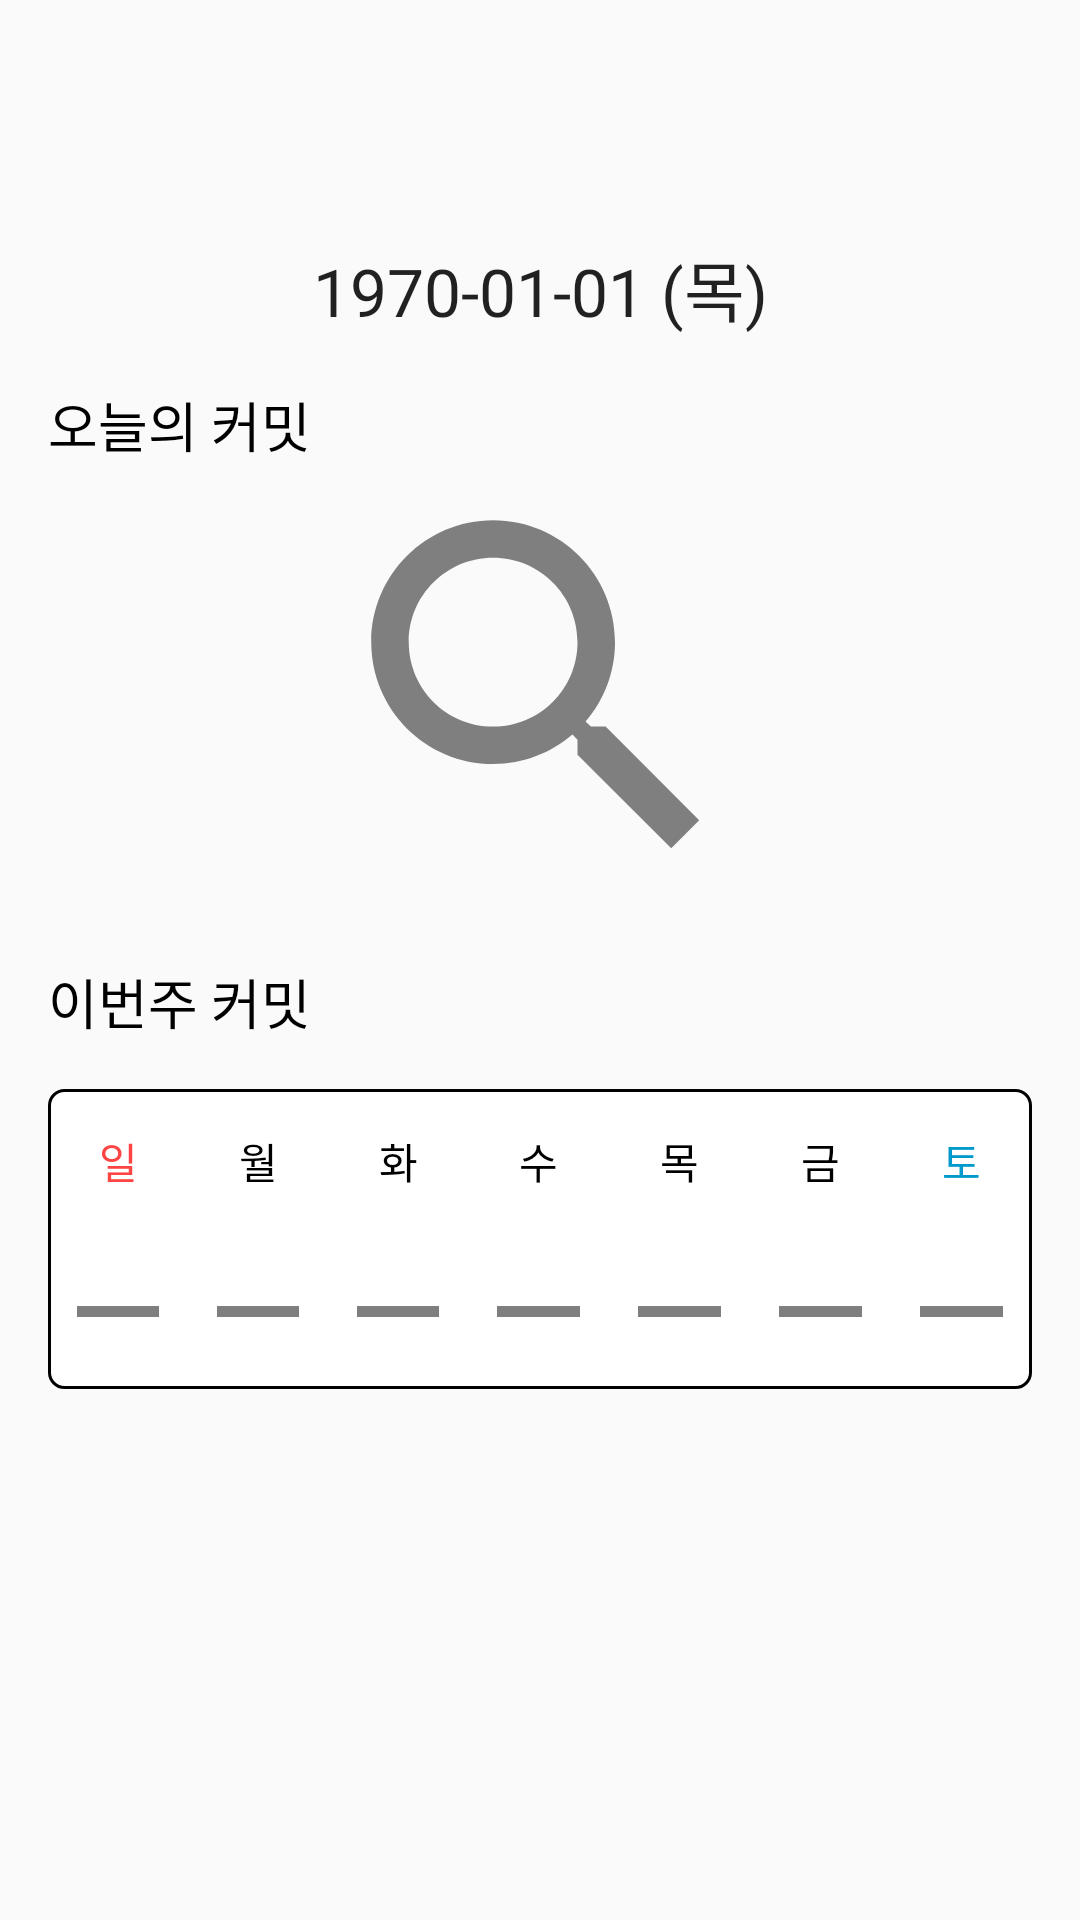

Icons on this 1080px x 1920px Android screen, each with its box as (x1, y1, x2, y2):
search: (371, 520, 699, 848)
